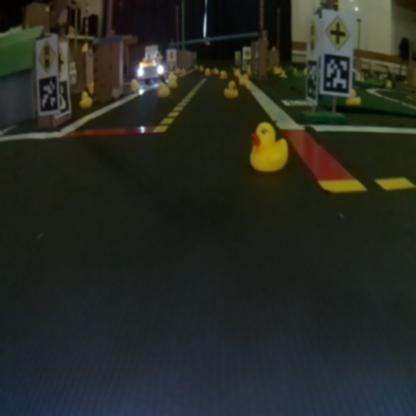duckie: (246, 113, 294, 184), (221, 76, 242, 109), (76, 85, 95, 110), (153, 84, 171, 98)
duckiebot: (132, 57, 165, 82)
